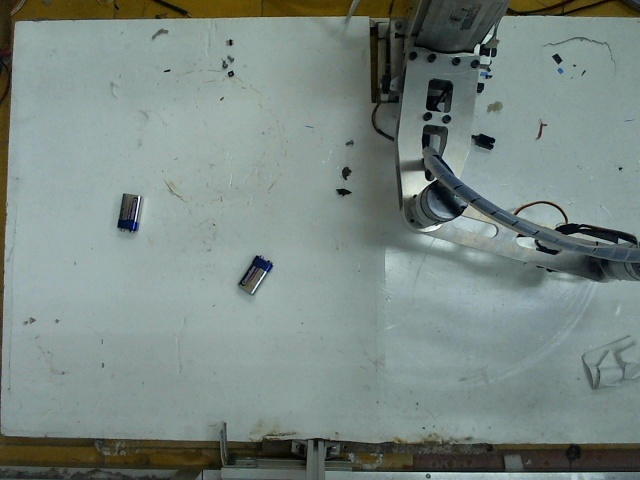battery: (235, 249, 276, 300), (114, 187, 146, 232)
